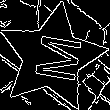M_W: (23, 30, 81, 85)
